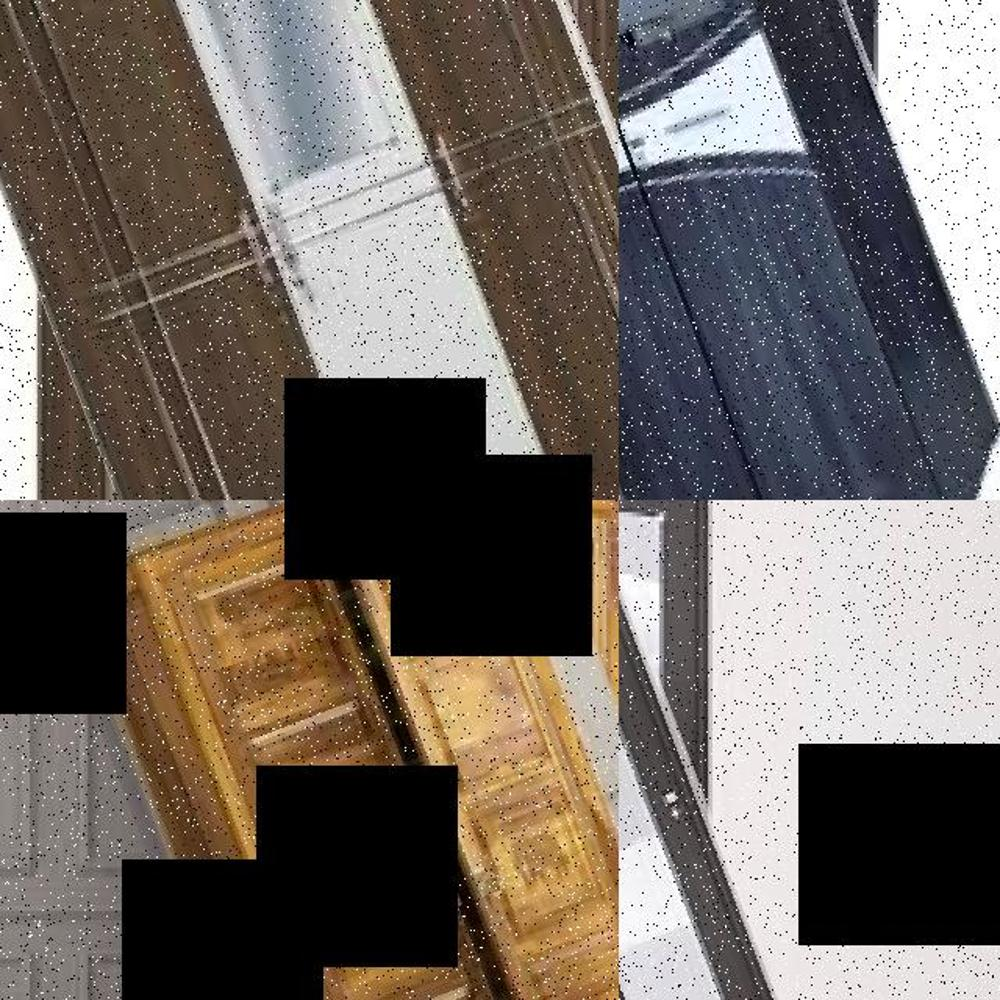cabinet: (0, 0, 619, 500), (109, 500, 619, 1000), (619, 0, 962, 500), (619, 500, 927, 1000)
